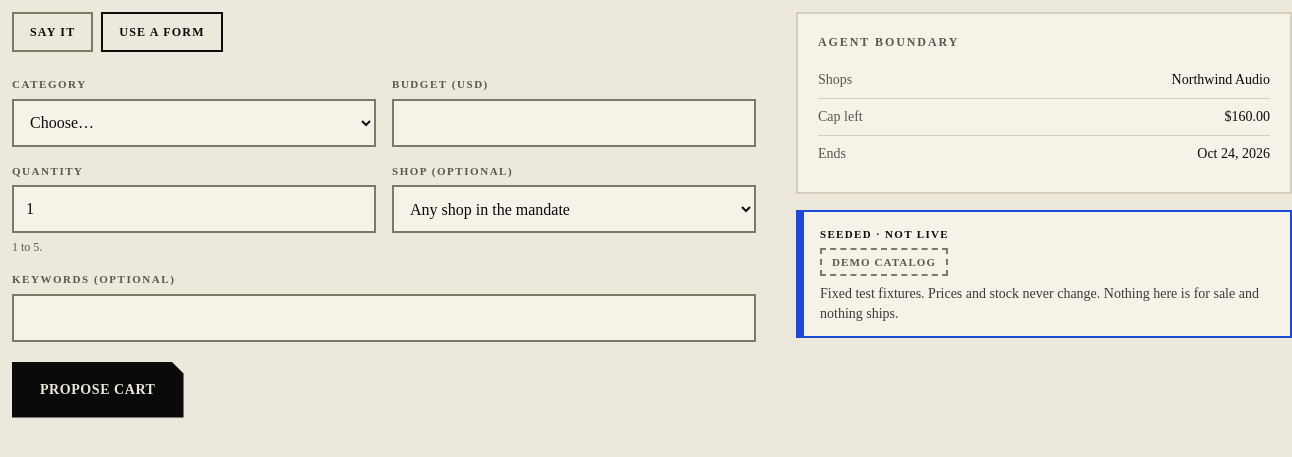
Test: IntentForm › validates the form fields before asking
The width and height of the screenshot is (1292, 457).
Click the button "Propose cart": (98, 390) [12,362,184,418]
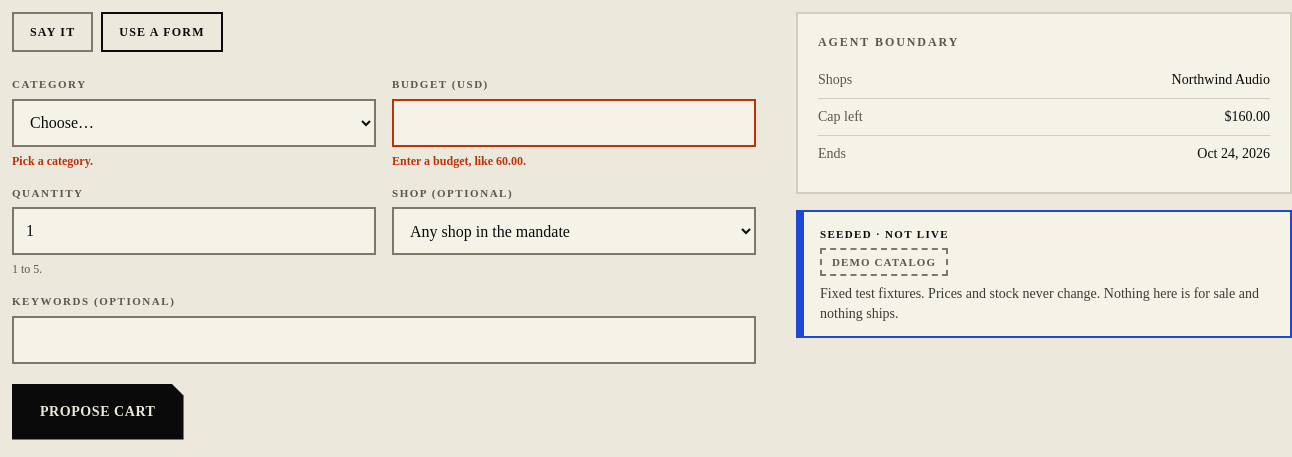
Expected: the text "Pick a category." is shown, [12,154,93,168]
Expected: the text "Enter a budget, like 60.00." is shown, [392,154,526,168]
